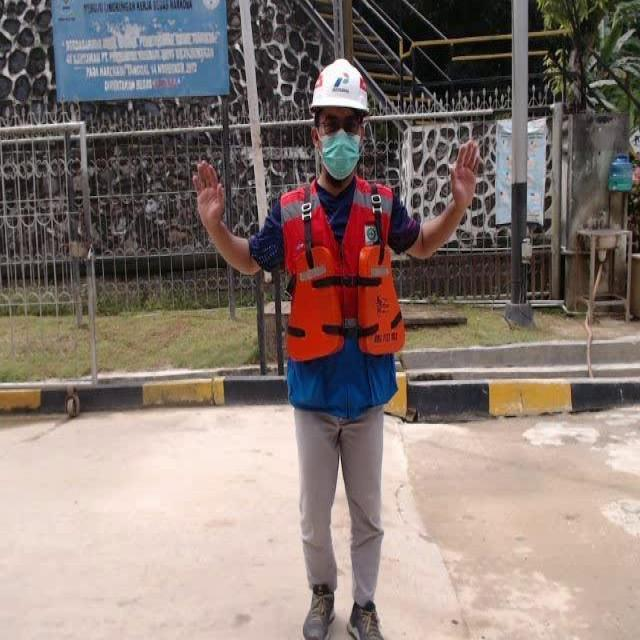hat: (310, 58, 370, 115)
